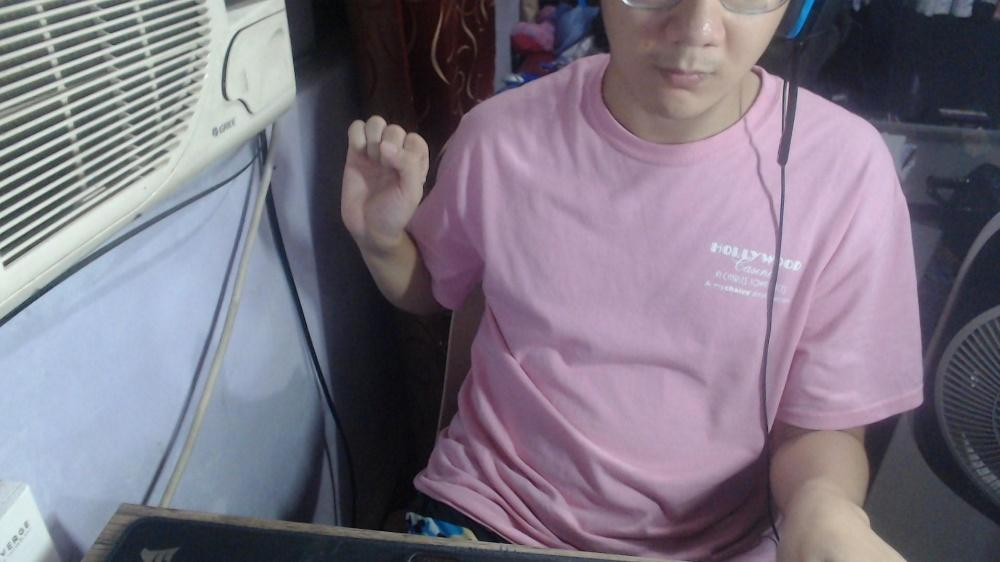s: (338, 112, 430, 243)
